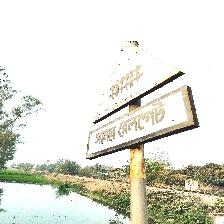Rail-crossing: (86, 42, 200, 160)
